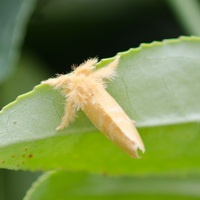insect: (41, 55, 144, 157)
